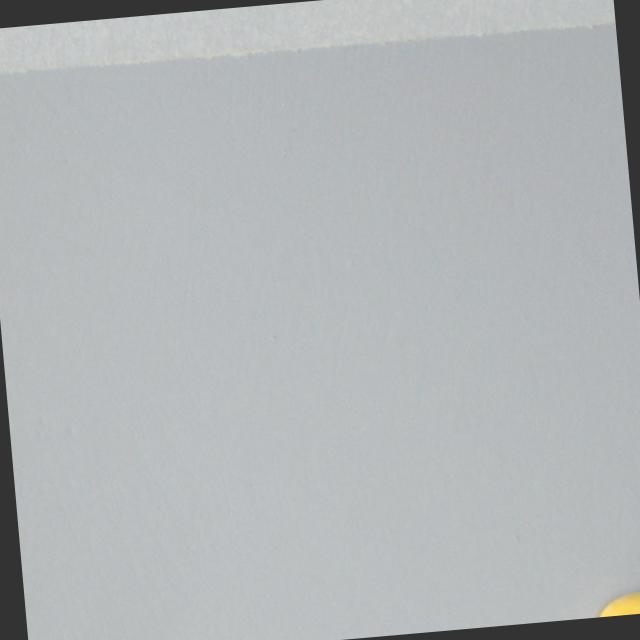pelicula: (591, 589, 640, 617)
